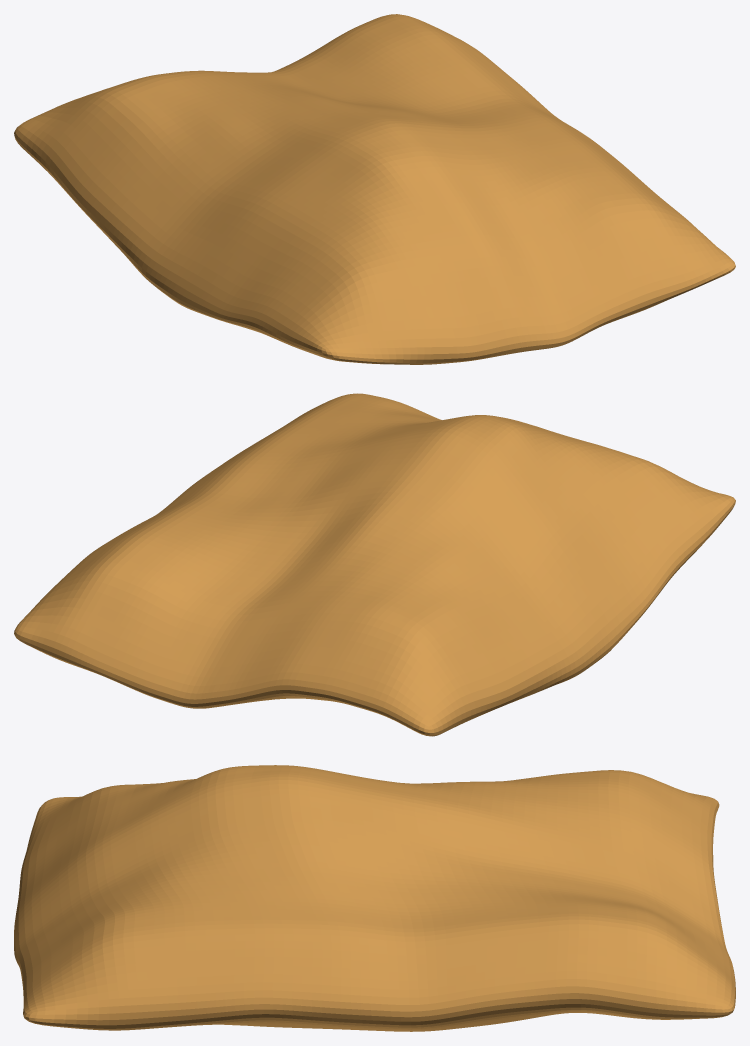
Rendered from 布袋 色あり.fbx.
3 views of the same model, one above another, from view 1: azimuth 30°, elevation 25°; view 2: azimuth 150°, elevation 25°; view 3: azimuth 270°, elevation 25° (orthographic). The views are drawn at different scales.
Parts seen in each view (by area): view 1: Grid; view 2: Grid; view 3: Grid.
Part boxes in pixels (x1,y1,x2,y2): Grid: [14, 14, 735, 364]; Grid: [14, 393, 735, 736]; Grid: [14, 765, 735, 1031].
Bounding box in the file's own units: 149 × 59.09 × 204.
